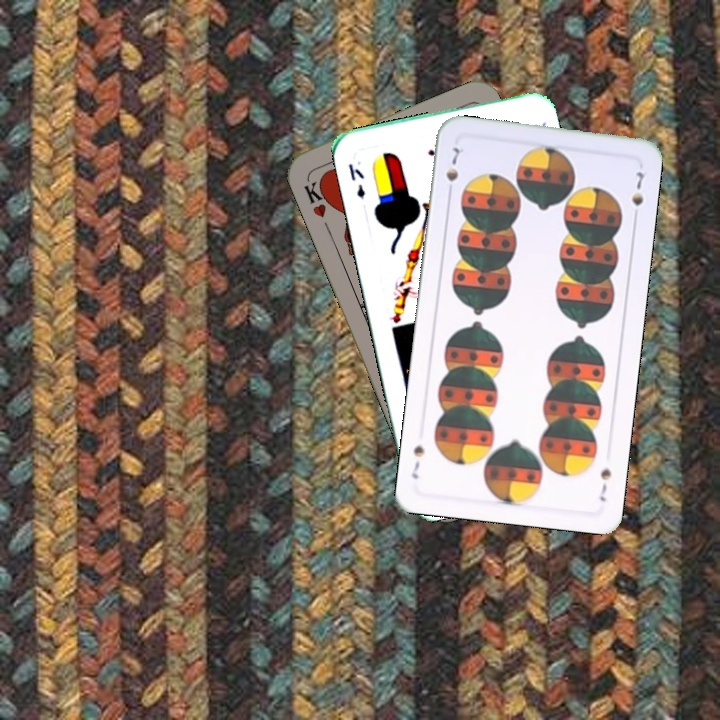EK: (344, 159, 368, 201)
HK: (300, 175, 335, 221)
S7: (442, 143, 462, 199), (595, 463, 614, 504)
